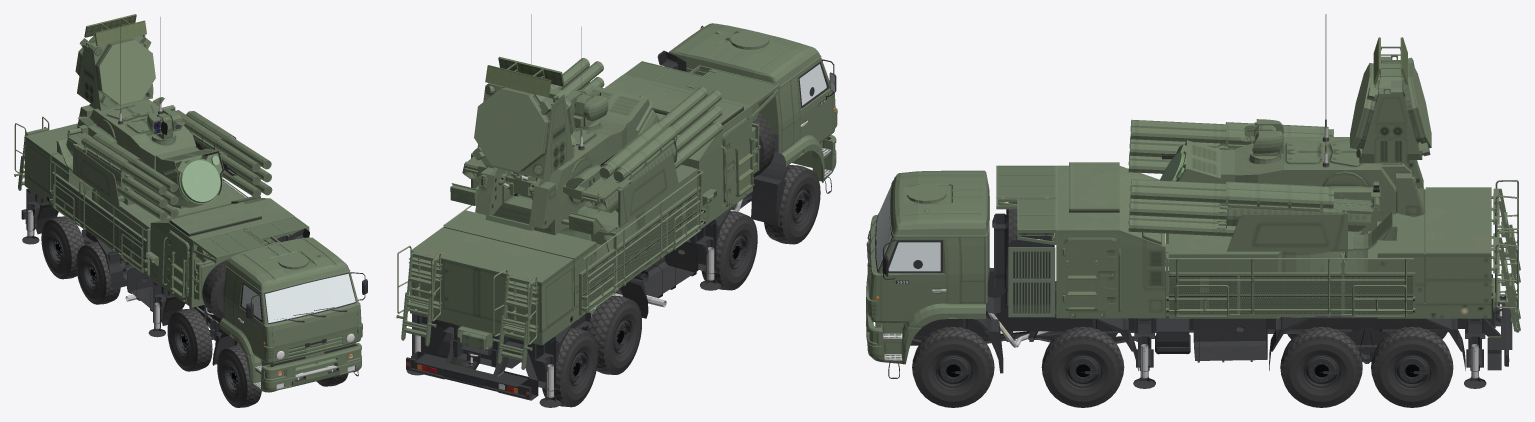
The model's file is pantsir_s2.obj.
The picture shows the model from 3 angles, left to right: view 1: azimuth 30°, elevation 25°; view 2: azimuth 150°, elevation 25°; view 3: azimuth 270°, elevation 25°; orthographic projection. The views are drawn at different scales.
Visible parts, largest first — view 1: body, weapon0, missiles, wheel3, wheel5, wheel1, wheel4, canopy1, canopy4, weapon0_aux, weapon0_radar, hatch0 (+1 smaller); view 2: body, weapon0, missiles, wheel4, wheel5, wheel1, wheel3, canopy1, canopy4, weapon0_aux, hatch0, weapon0_radar (+1 smaller); view 3: body, weapon0, missiles, wheel5, wheel4, wheel0, wheel2, canopy0, canopy3, weapon0_aux, weapon0_radar, hatch0 (+1 smaller).
Boxes of the visible parts, bbox=[...] form: body: bbox=[14, 116, 362, 400]; weapon0: bbox=[56, 14, 224, 208]; missiles: bbox=[66, 110, 272, 220]; wheel3: bbox=[167, 308, 212, 371]; wheel5: bbox=[41, 216, 84, 279]; wheel1: bbox=[217, 345, 261, 407]; wheel4: bbox=[76, 242, 120, 304]; canopy1: bbox=[238, 280, 263, 361]; canopy4: bbox=[166, 231, 189, 298]; weapon0_aux: bbox=[67, 97, 260, 204]; weapon0_radar: bbox=[147, 109, 184, 134]; hatch0: bbox=[22, 210, 165, 337]; body: bbox=[396, 23, 837, 400]; weapon0: bbox=[450, 14, 678, 235]; missiles: bbox=[462, 58, 722, 212]; wheel4: bbox=[587, 295, 641, 374]; wheel5: bbox=[449, 328, 598, 407]; wheel1: bbox=[764, 165, 820, 244]; wheel3: bbox=[701, 211, 757, 290]; canopy1: bbox=[797, 59, 836, 143]; canopy4: bbox=[722, 119, 754, 203]; weapon0_aux: bbox=[464, 77, 616, 202]; hatch0: bbox=[406, 247, 721, 407]; weapon0_radar: bbox=[566, 89, 608, 121]; body: bbox=[866, 162, 1520, 378]; weapon0: bbox=[1159, 14, 1431, 251]; missiles: bbox=[1128, 119, 1372, 236]; wheel5: bbox=[1371, 326, 1453, 407]; wheel4: bbox=[1280, 326, 1362, 407]; wheel0: bbox=[912, 326, 994, 407]; wheel2: bbox=[1041, 327, 1124, 407]; canopy0: bbox=[881, 239, 946, 323]; canopy3: bbox=[1063, 239, 1116, 311]; weapon0_aux: bbox=[1129, 143, 1380, 212]; weapon0_radar: bbox=[1240, 119, 1283, 153]; hatch0: bbox=[1133, 344, 1486, 388].
Bounding box in the file's own units: 2.99 × 6.38 × 10.81.
